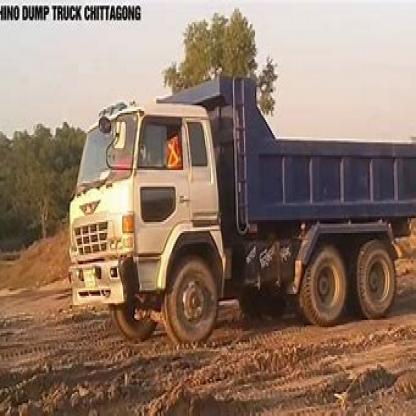dump_truck: (60, 63, 415, 349)
